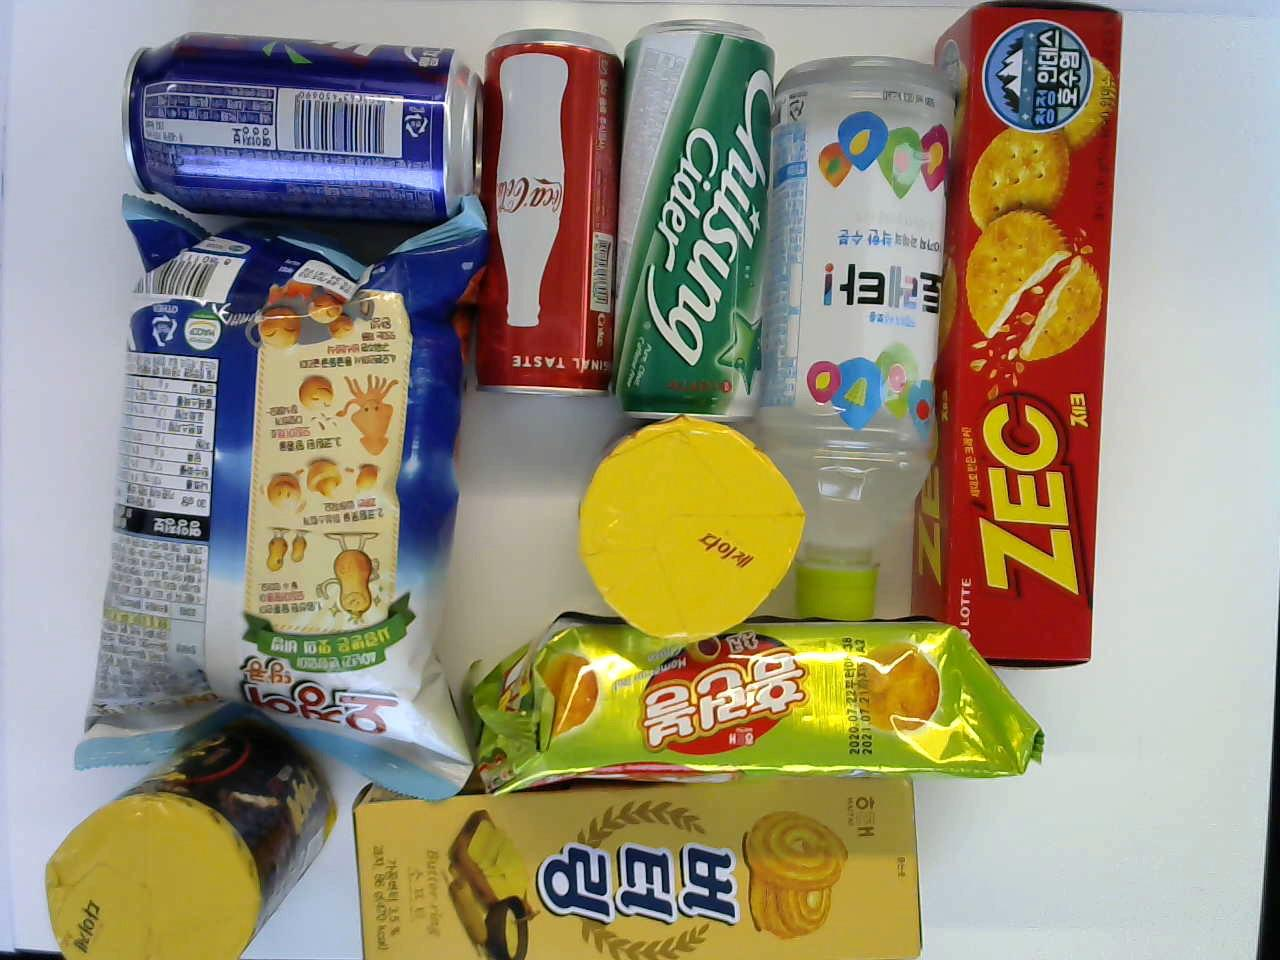buttering: (351, 753, 920, 959)
cidar: (615, 32, 778, 402)
coke: (458, 24, 621, 399)
diget_choco: (42, 736, 338, 959)
diget_ori: (577, 423, 802, 634)
homerunball: (467, 623, 1045, 781)
squid_peanut: (76, 198, 469, 785)
toreta: (780, 51, 954, 602)
welchs: (120, 28, 473, 207)
zec: (909, 11, 1128, 670)
